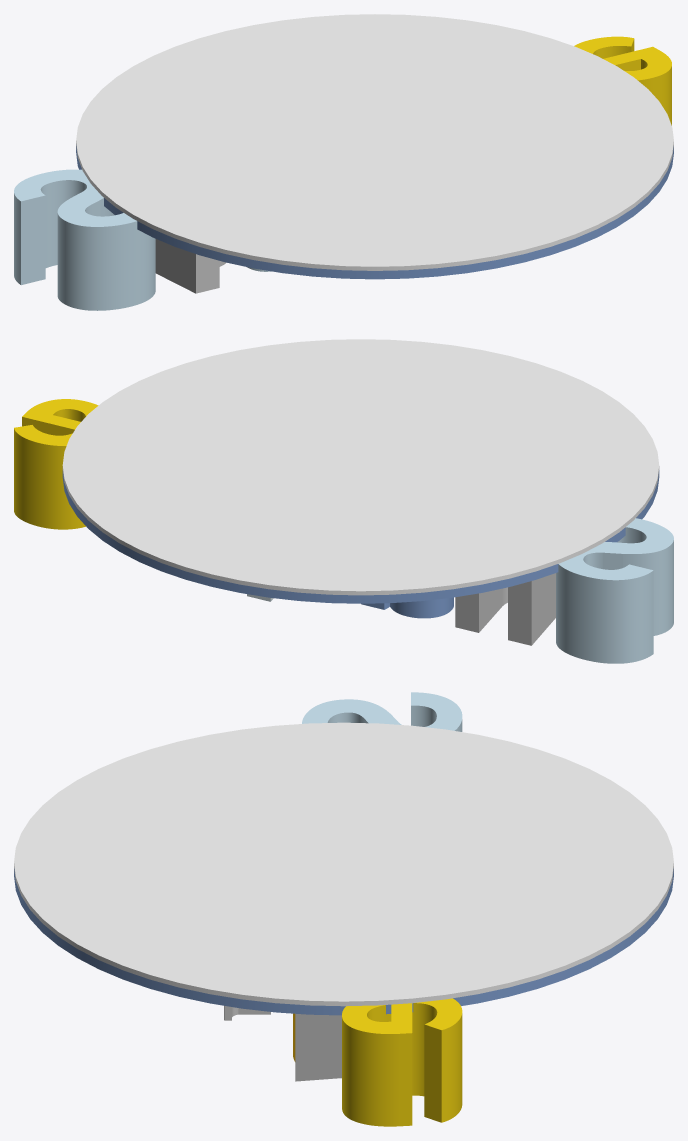
The model's file is sharpfle.gltf.
3 renders of one model, top to bottom at view 1: azimuth 30°, elevation 25°; view 2: azimuth 150°, elevation 25°; view 3: azimuth 270°, elevation 25°, orthographic. The views are drawn at different scales.
Visible parts, largest first — view 1: Part 20, Part 1, Part 19, Part 8, Part 2; view 2: Part 20, Part 1, Part 8, Part 19, Part 2, Part 3; view 3: Part 20, Part 8, Part 19, Part 1, Part 7.
Boxes of the visible parts, bbox=[...] form: Part 20: bbox=[76, 14, 673, 270]; Part 1: bbox=[14, 169, 155, 310]; Part 19: bbox=[76, 145, 673, 279]; Part 8: bbox=[574, 36, 671, 125]; Part 2: bbox=[155, 239, 225, 293]; Part 20: bbox=[62, 339, 659, 595]; Part 1: bbox=[556, 518, 673, 663]; Part 8: bbox=[14, 399, 98, 529]; Part 19: bbox=[62, 470, 659, 603]; Part 2: bbox=[455, 573, 555, 645]; Part 3: bbox=[361, 597, 453, 618]; Part 20: bbox=[14, 722, 673, 1006]; Part 8: bbox=[342, 998, 462, 1126]; Part 19: bbox=[14, 868, 673, 1015]; Part 1: bbox=[302, 692, 462, 731]; Part 7: bbox=[295, 1013, 341, 1081].
Size of the model in its own units: 0.2012 by 0.0267 by 0.1642.
